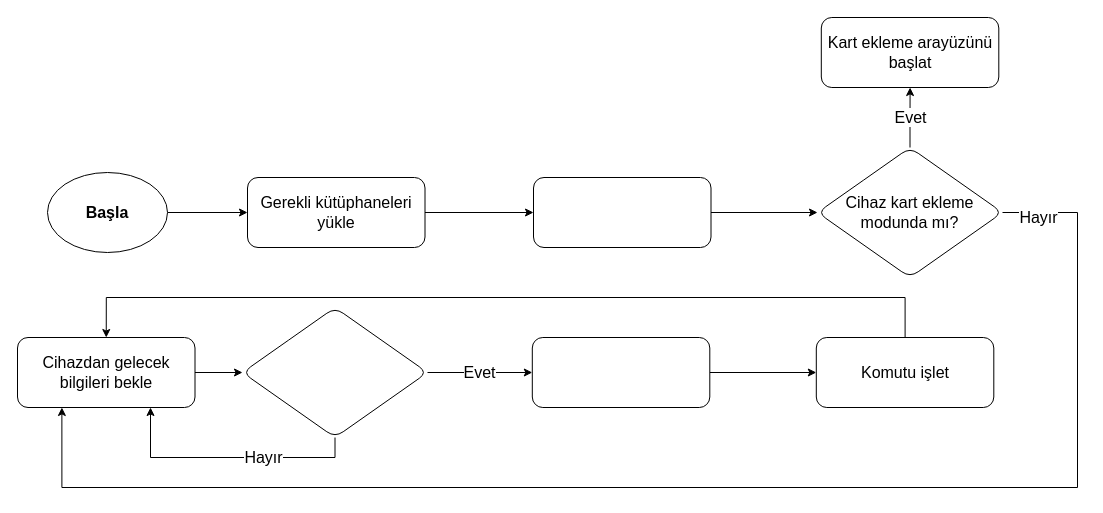
Some shapes in this 1103 by 513 pixel diagram are drawn without their labels. Each missing label, with the box of its shape:
Bilgileri yorumla ve yapılması gereken komutu bul: (531, 336, 710, 408)
Cihazın bağlı olduğu portu bul: (532, 176, 711, 248)
Gelen bilgi var mı?: (242, 306, 428, 438)
